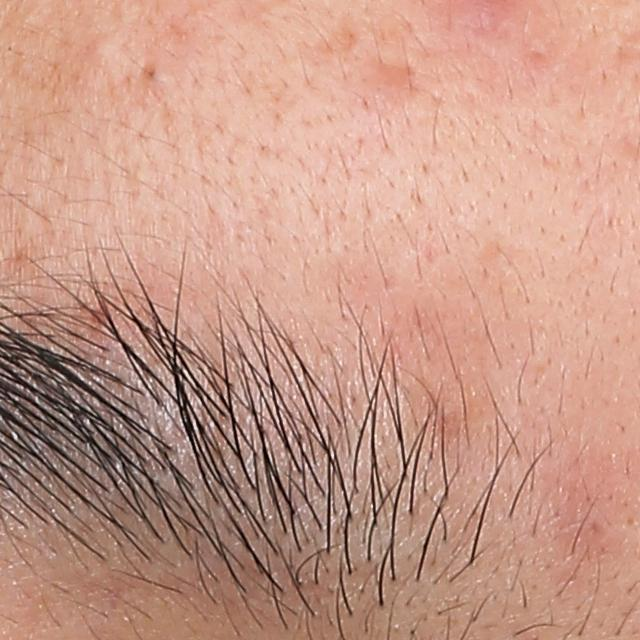atrophic_scar: (361, 59, 417, 96)
comedo: (77, 35, 120, 74), (143, 61, 168, 87)
